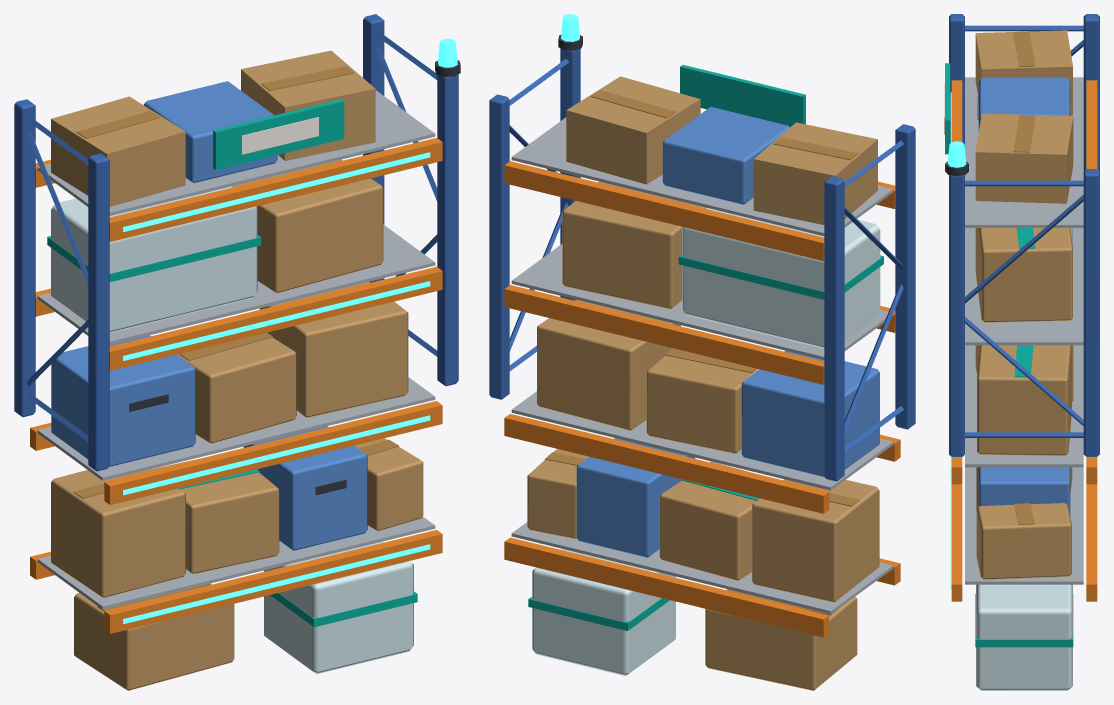
File: station_buffer_ausstattung_1_3.glb
3 renders of one model, left to right at view 1: azimuth 30°, elevation 25°; view 2: azimuth 150°, elevation 25°; view 3: azimuth 270°, elevation 25°, orthographic. The views are drawn at different scales.
Visible parts, largest first — view 1: station_buffer_ausstattung_1_3; view 2: station_buffer_ausstattung_1_3; view 3: station_buffer_ausstattung_1_3.
Part boxes in pixels (x1,y1,x2,y2): station_buffer_ausstattung_1_3: (14,14,460,690); station_buffer_ausstattung_1_3: (489,14,915,690); station_buffer_ausstattung_1_3: (944,14,1099,690).
Bounding box in the file's own units: 1.43 × 2.28 × 0.578.
